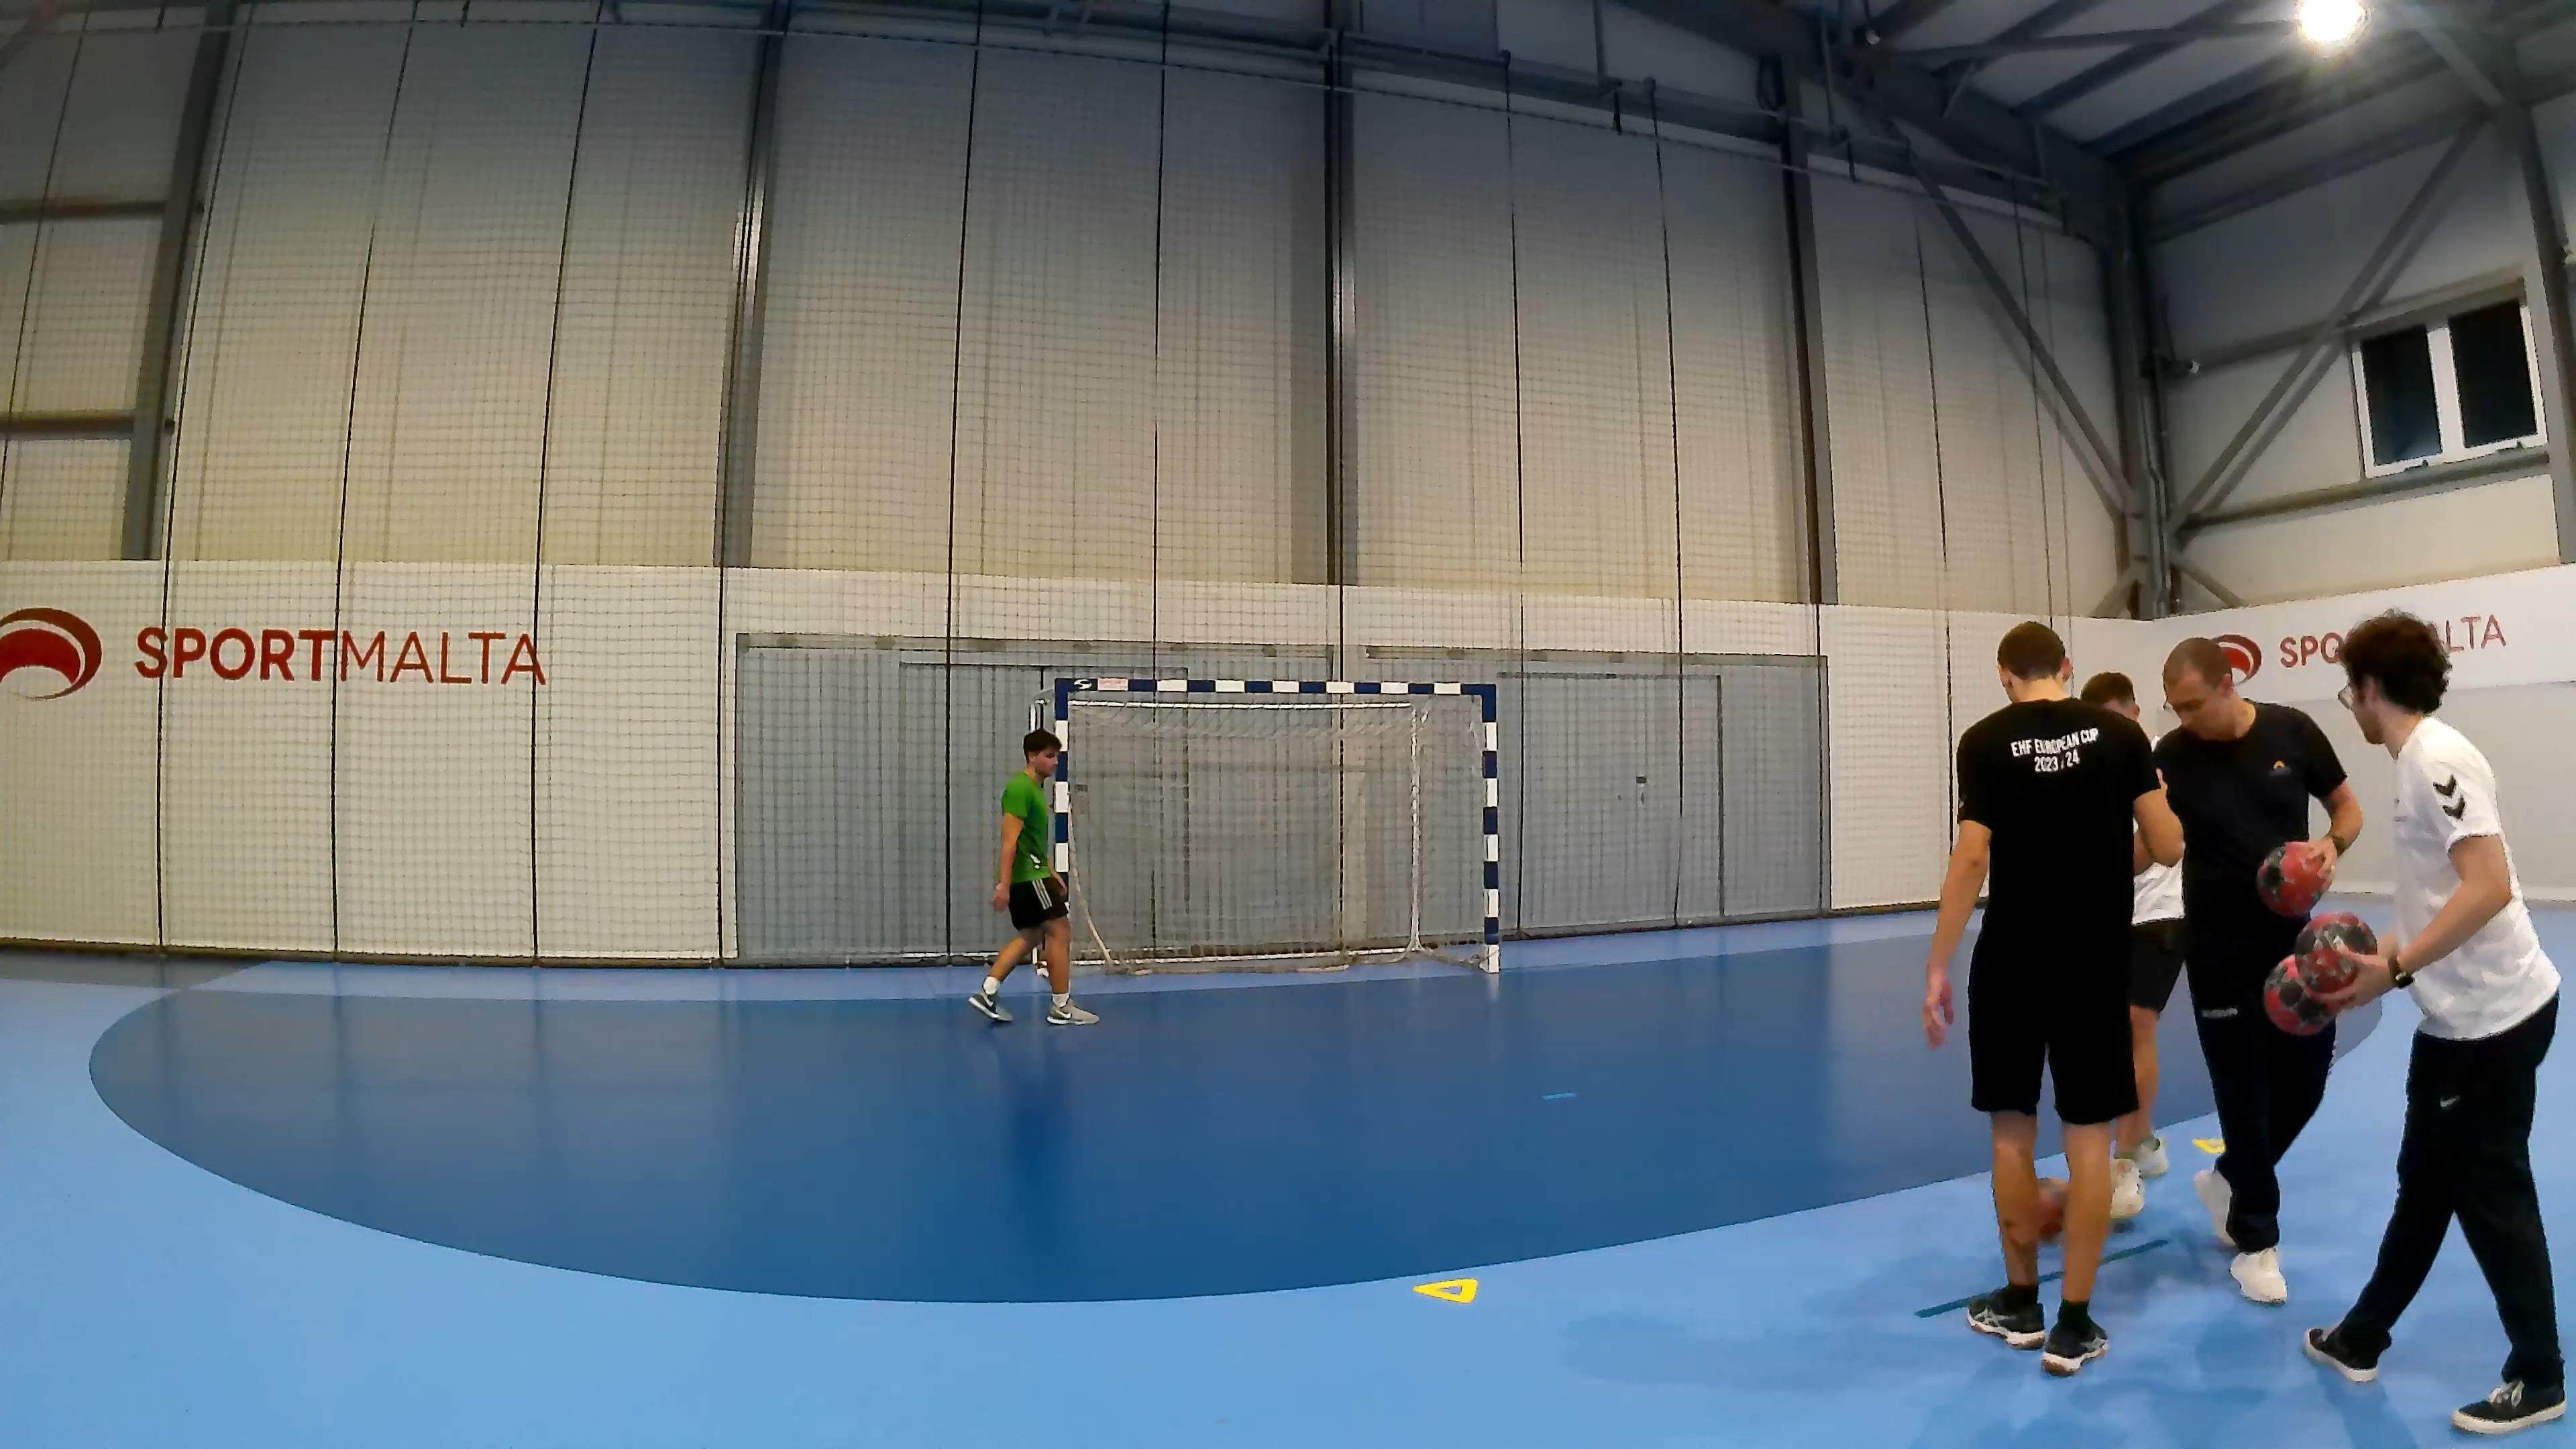handball: (2263, 911, 2378, 1037), (2256, 839, 2330, 918)
